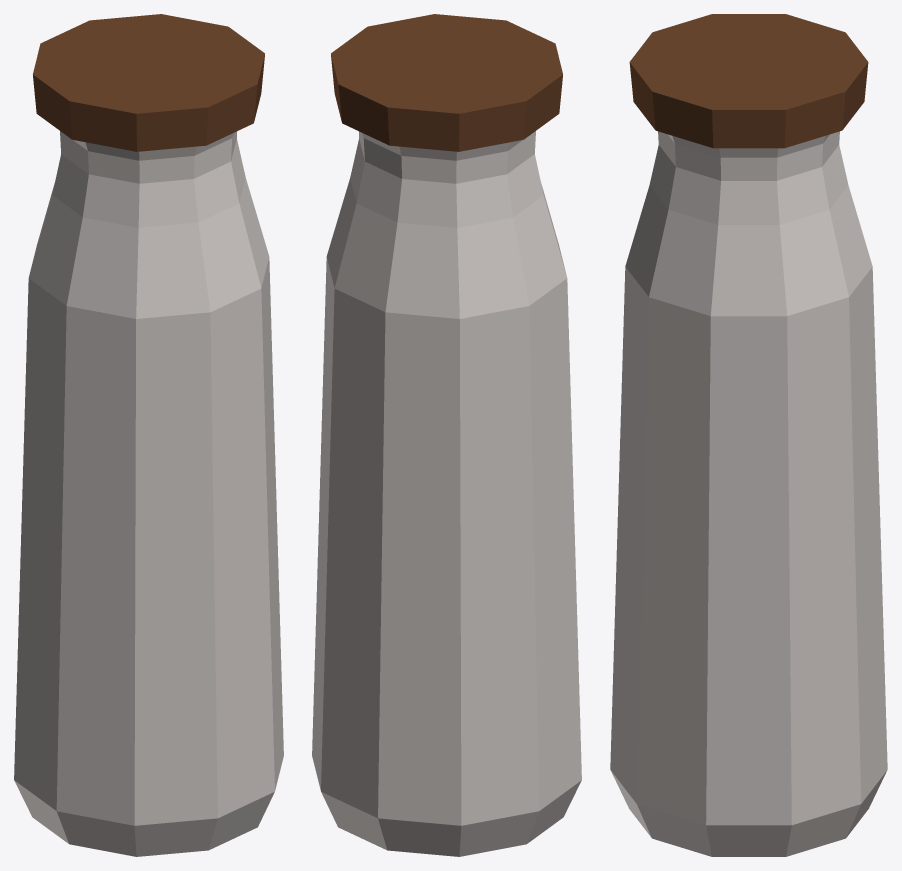
File: milk1.fbx
3 views of the same model, side by side, from view 1: azimuth 30°, elevation 25°; view 2: azimuth 150°, elevation 25°; view 3: azimuth 270°, elevation 25° (orthographic).
Visible parts, largest first — view 1: Cylinder; view 2: Cylinder; view 3: Cylinder.
Part boxes in pixels (x1,y1,x2,y2): Cylinder: (14,14,283,856); Cylinder: (312,14,581,856); Cylinder: (610,14,887,856).
Bounding box in the file's own units: 135 × 422 × 142.
